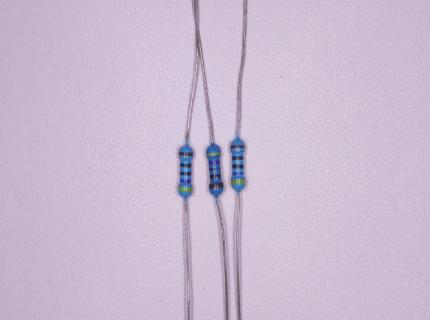Black band: (210, 173, 221, 179), (209, 167, 220, 173), (232, 164, 244, 169), (180, 163, 191, 168), (232, 156, 244, 160), (180, 172, 191, 176)
Brown band: (208, 182, 224, 190), (179, 152, 193, 157), (230, 145, 244, 149)
Violet band: (208, 159, 219, 166), (179, 179, 191, 184), (232, 172, 244, 176)
Yellow band: (178, 186, 193, 192), (206, 152, 221, 157), (231, 179, 245, 184)
